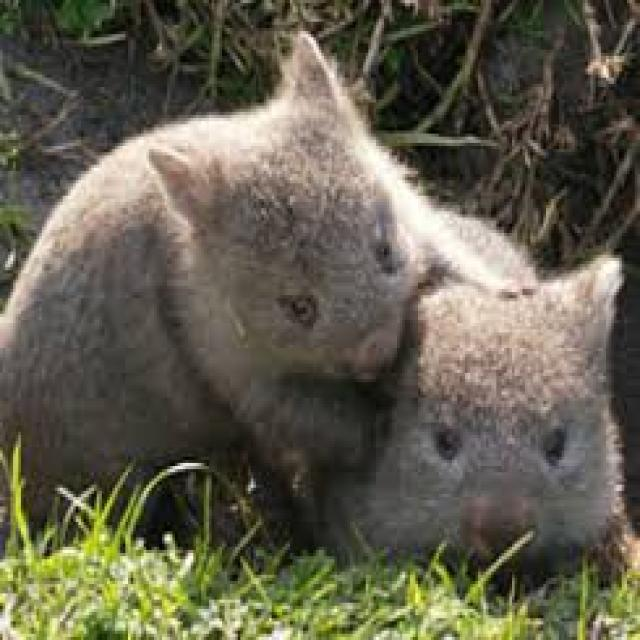Wombat: (0, 26, 551, 503), (384, 231, 636, 577)
